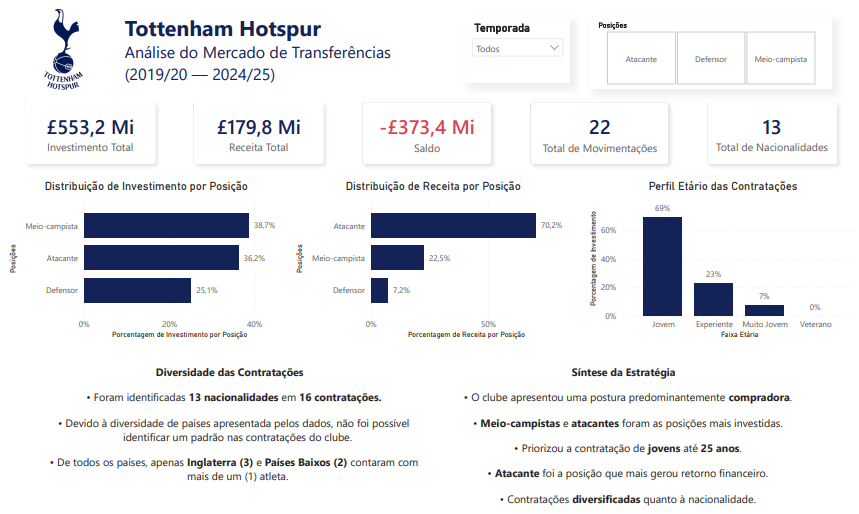

What the dashboard file says about the page in this screenshot:
{"tool":"powerbi","page":{"name":"Dashboard","canvas":[1280,760],"ordinal":0},"visuals":[{"type":"cardVisual","fields":{"Data":["Medidas.investimento_total"]},"box":[0,111,252.6,150],"z":0},{"type":"cardVisual","fields":{"Data":["Medidas.Saldo"]},"box":[505.2,111,251.3,150],"z":1000},{"type":"cardVisual","fields":{"Data":["Medidas.receita_total"]},"box":[252.6,111,252.6,150],"z":2000},{"type":"cardVisual","fields":{"Data":["Medidas.Total de Movimentações"]},"box":[756.5,111,265.8,150],"z":3000},{"type":"cardVisual","fields":{"Data":["Medidas.Total de Nacionalidades"]},"box":[1022.5,111,251.3,150],"z":4000},{"type":"image","box":[0,0,171.5,120.5],"z":5000},{"type":"textbox","box":[172.9,0,409.7,123.3],"z":6000},{"type":"clusteredBarChart","title":"Distribuição de Investimento por Posição","fields":{"Category":["Dados Tratados.posição"],"Y":["Dados Tratados.% de Investimento"]},"box":[0,255.2,420.7,243.7],"z":7000},{"type":"clusteredColumnChart","title":"Perfil Etário das Contratações","fields":{"Category":["Dados Tratados.faixa_etária"],"Y":["Medidas.% de Investimento por Faixa Etária"]},"box":[870,255,410,244],"z":8000},{"type":"clusteredBarChart","title":"Distribuição de Receita por Posição","fields":{"Category":["Dados Tratados.posição"],"Y":["Medidas.% de Receita por Posição"]},"box":[429.5,255,421,243.8],"z":9000},{"type":"slicer","fields":{"Values":["Dados Tratados.temporada"]},"box":[688.9,12.8,156,97.8],"z":10000},{"type":"slicer","fields":{"Values":["Dados Tratados.posição"]},"box":[874.6,12.8,362.9,107.7],"z":11000},{"type":"textbox","box":[40.3,527.8,590.3,231.9],"z":11001},{"type":"textbox","box":[831.9,516.7,421,244],"z":11002}]}

Visuals, with their boxes in screenshot pixels (x1, y1, x2, y2), scaled from the page's 1280x760 canvas onto the 859x514 screenshot:
cardVisual - Medidas.investimento_total: bbox=[0, 75, 170, 177]
cardVisual - Medidas.Saldo: bbox=[339, 75, 508, 177]
cardVisual - Medidas.receita_total: bbox=[170, 75, 339, 177]
cardVisual - Medidas.Total de Movimentações: bbox=[508, 75, 686, 177]
cardVisual - Medidas.Total de Nacionalidades: bbox=[686, 75, 855, 177]
image: bbox=[0, 0, 115, 81]
textbox: bbox=[116, 0, 391, 83]
"Distribuição de Investimento por Posição" clusteredBarChart: bbox=[0, 173, 282, 337]
"Perfil Etário das Contratações" clusteredColumnChart: bbox=[584, 172, 858, 337]
"Distribuição de Receita por Posição" clusteredBarChart: bbox=[288, 172, 571, 337]
slicer - Dados Tratados.temporada: bbox=[462, 9, 567, 75]
slicer - Dados Tratados.posição: bbox=[587, 9, 830, 81]
textbox: bbox=[27, 357, 423, 513]
textbox: bbox=[558, 349, 841, 513]
